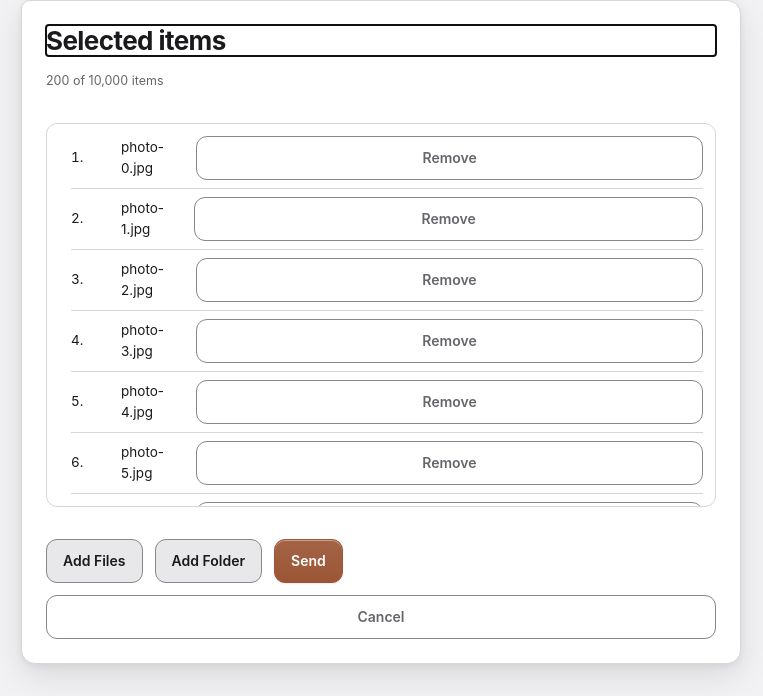
Test: collection draft focus › keeps the remaining rows mounted when the first row is removed
Step 1. Click the button with aria-label "Remove 1. photo-0.jpg" → (450, 158), box [196,136,703,180]
(page scrolled)
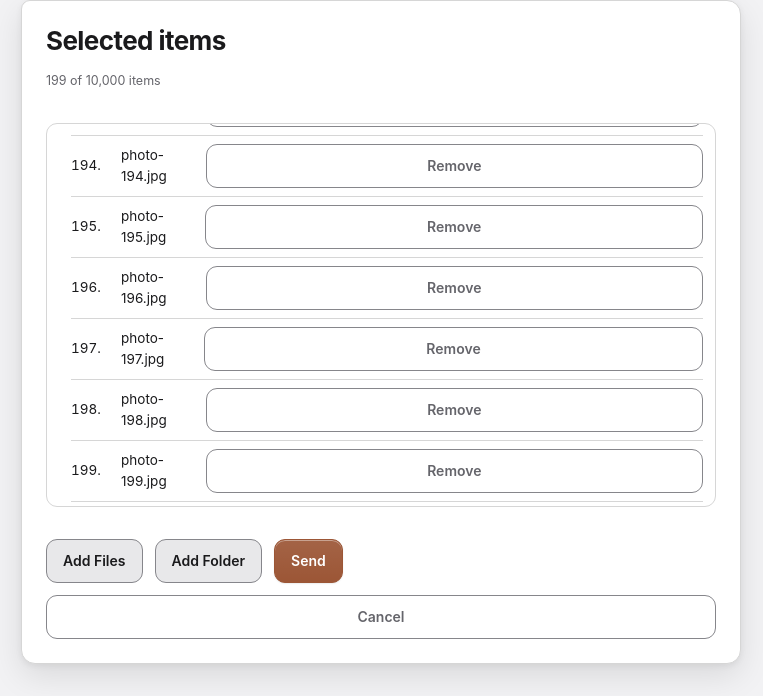
Check: the button with aria-label "Remove 199. photo-199.jpg" is shown, box [206,449,703,493]
